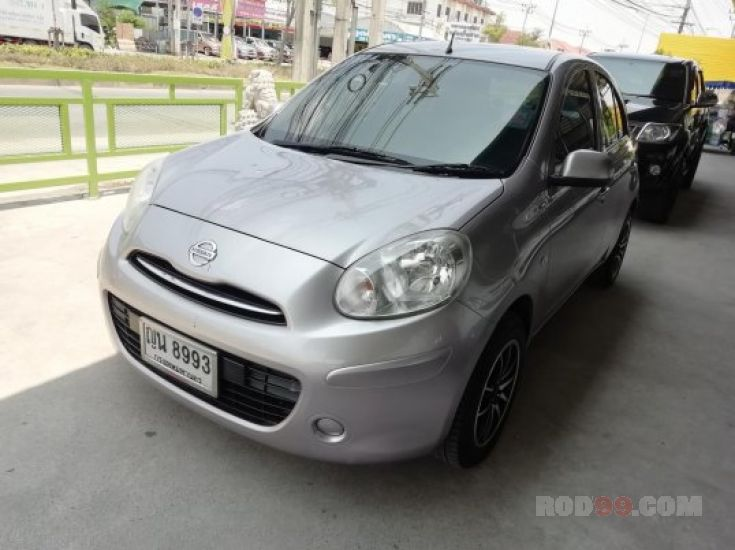sedan: (95, 37, 643, 473)
